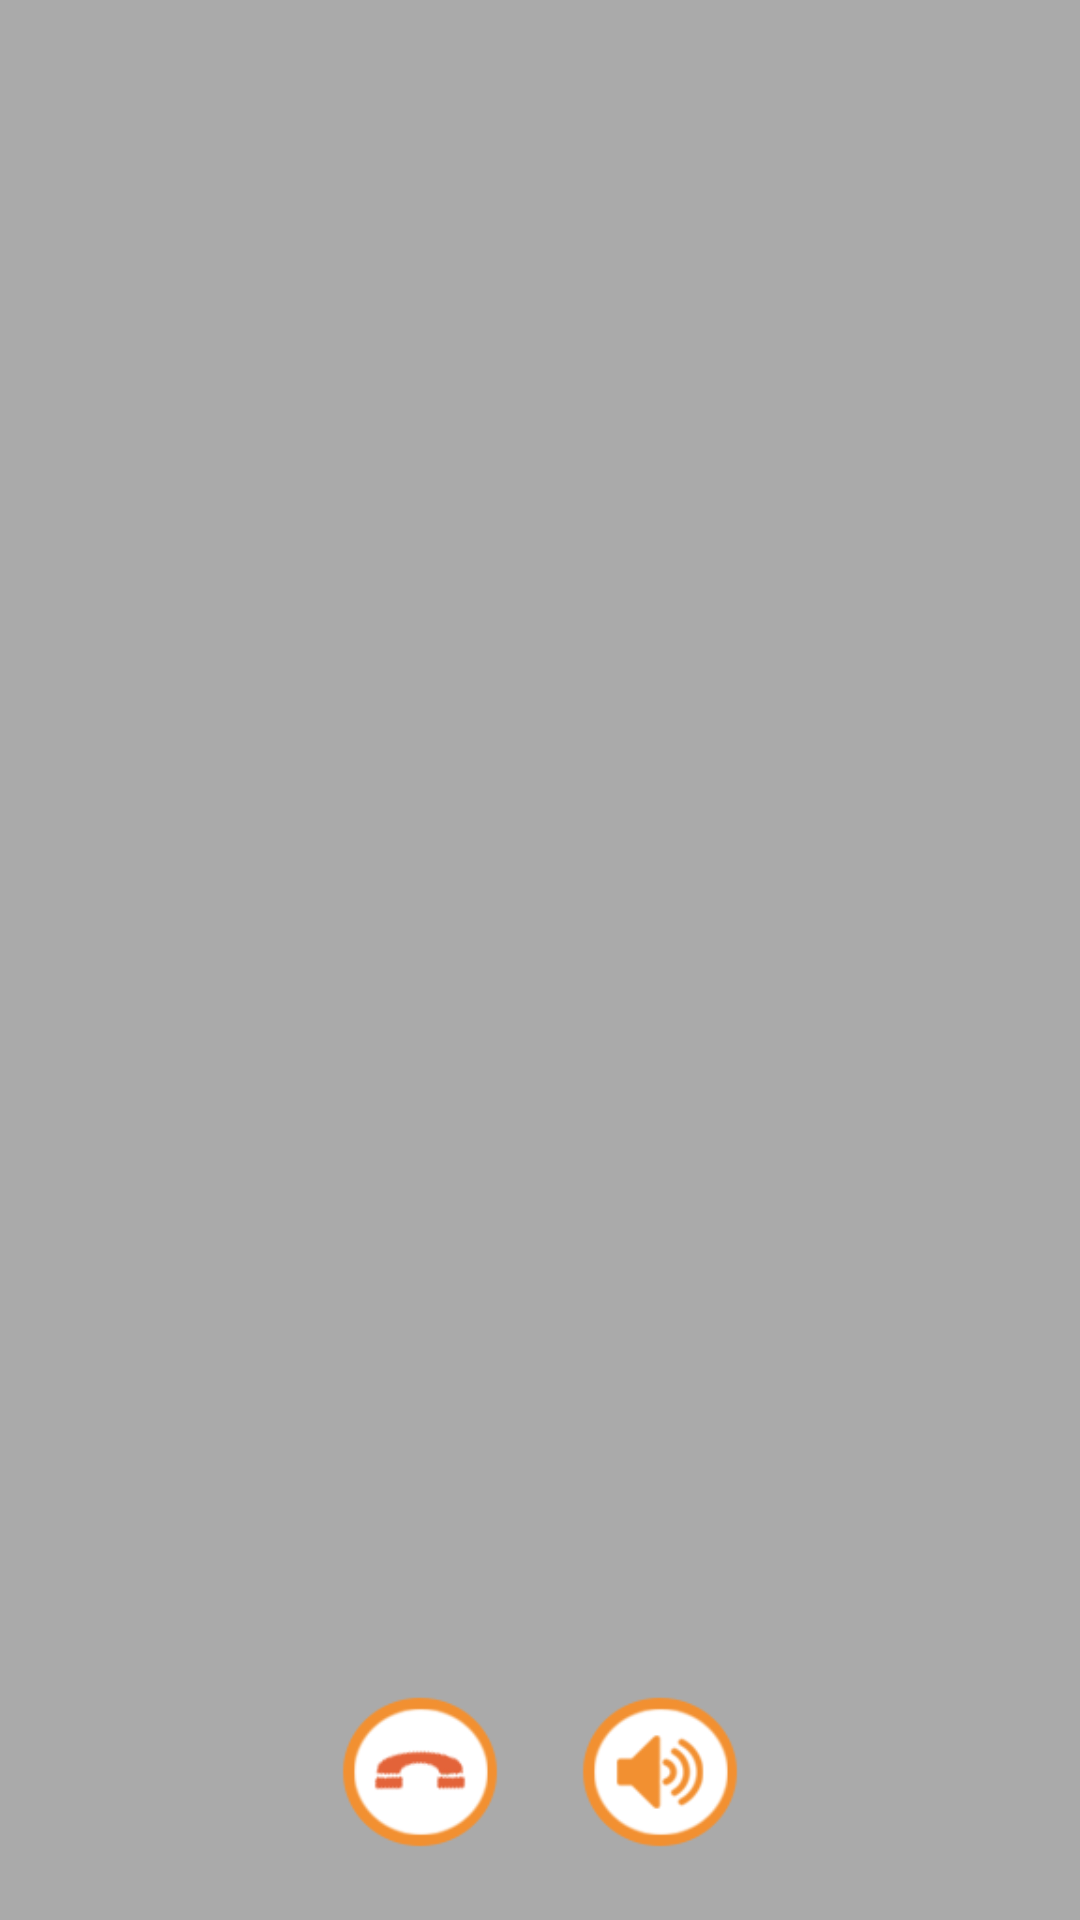

Screen size 1080*1920. Icon name, then its box in pixels as bbox=(x1, y1, x2, y2):
hangup: bbox=(343, 1697, 497, 1847)
louderspeaker: bbox=(583, 1697, 737, 1847)
